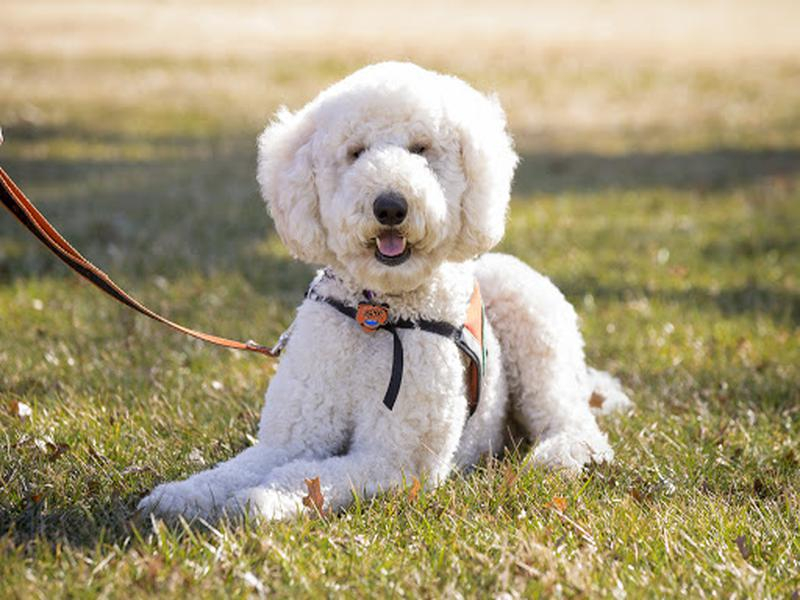dog_down: (128, 56, 629, 536)
